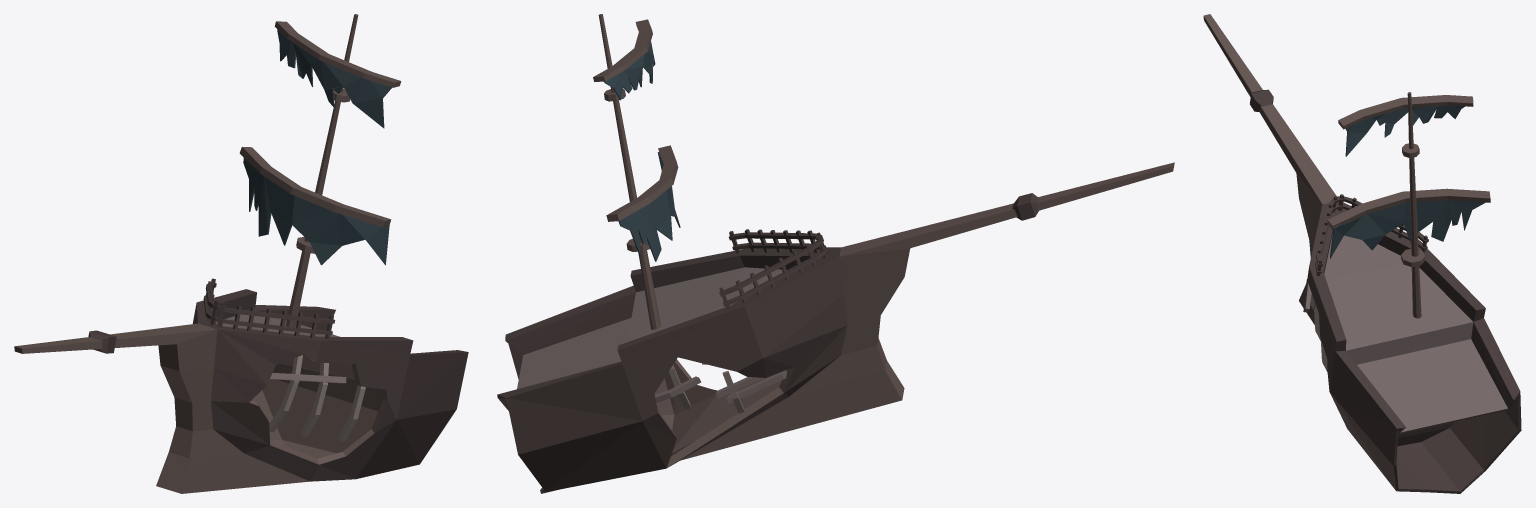
Rendered from Ship_020.fbx.
3 renders of one model, left to right at view 1: azimuth 30°, elevation 25°; view 2: azimuth 150°, elevation 25°; view 3: azimuth 270°, elevation 25°, orthographic. The views are drawn at different scales.
Parts seen in each view (by area): view 1: Ship_020; view 2: Ship_020; view 3: Ship_020.
Boxes of the visible parts, <box> form: Ship_020: <box>14,14,468,493</box>; Ship_020: <box>497,14,1174,493</box>; Ship_020: <box>1203,14,1521,493</box>.
Bounding box in the file's own units: 1288 × 760 × 1026.
1 material, 1 textured.
